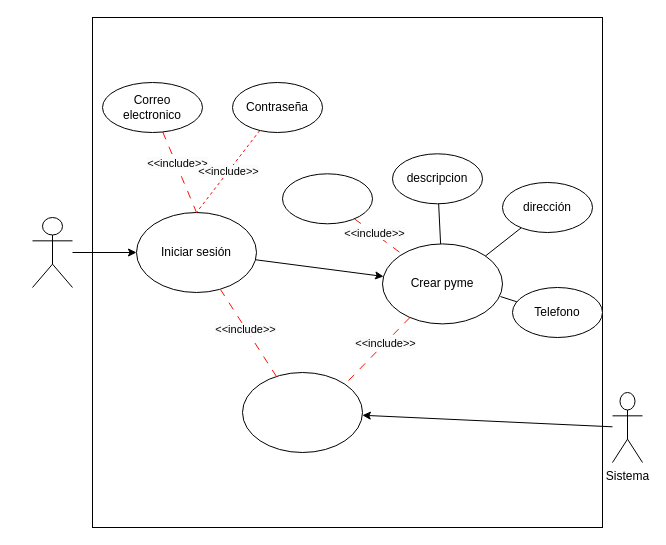
The diagram is 666 pixels wide and 545 high, and some of its shapes have lost their labels. The centre of each missing label's shape, as x and y in pixels:
"Dueño_pyme" goes at point 52,252.
"nombre pyme" goes at point 327,198.
"Verifica informacion" goes at point 302,412.
